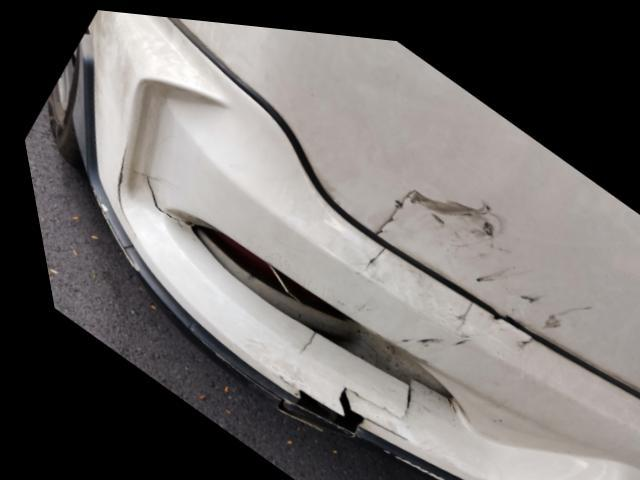crack: (175, 326, 399, 435), (139, 173, 183, 228), (110, 141, 128, 235), (366, 186, 403, 229), (345, 239, 377, 259), (444, 291, 464, 322), (285, 327, 305, 351), (507, 325, 523, 339)
no part: (185, 220, 433, 387)
scratch: (403, 180, 572, 335)
